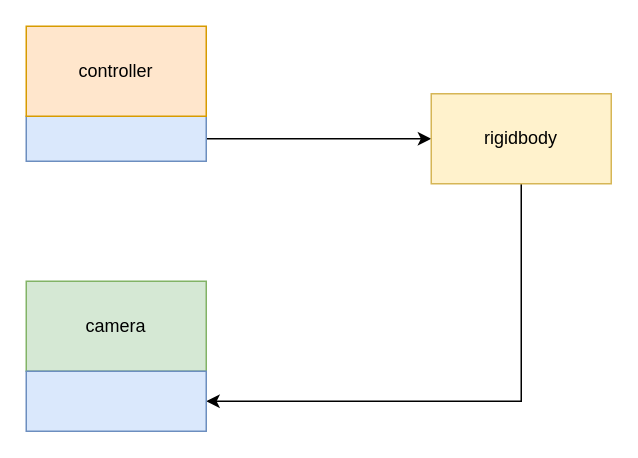
Image size: 638x458. Some labels were removed from this diagram. Each missing label, with the box of its shape:
controls rigidbody: (25, 115, 206, 161)
copies position and rotation after start: (25, 370, 206, 431)
